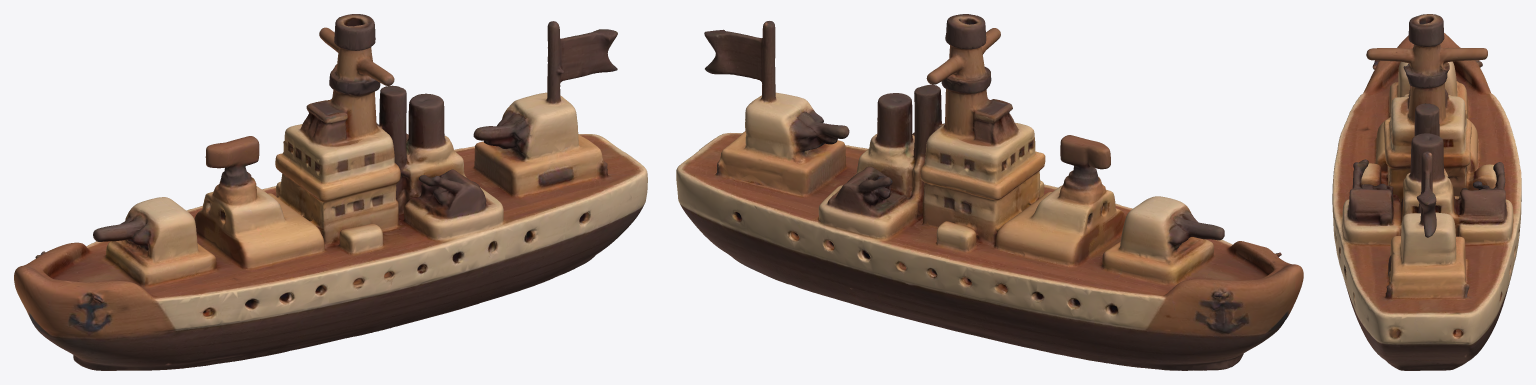
Rendered from warship.glb.
The picture shows the model from 3 angles, left to right: view 1: azimuth 30°, elevation 25°; view 2: azimuth 150°, elevation 25°; view 3: azimuth 270°, elevation 25°; orthographic projection. The views are drawn at different scales.
Size of the model in its own units: 2 by 0.8793 by 0.5994.
Materials: 1 (1 with a texture image).
